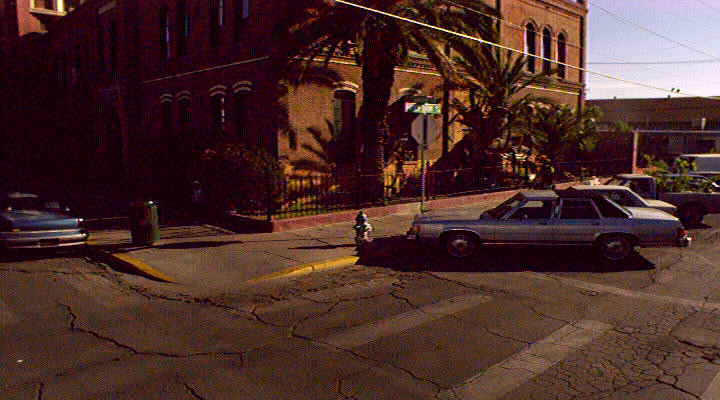Ramp: (127, 233, 305, 292)
